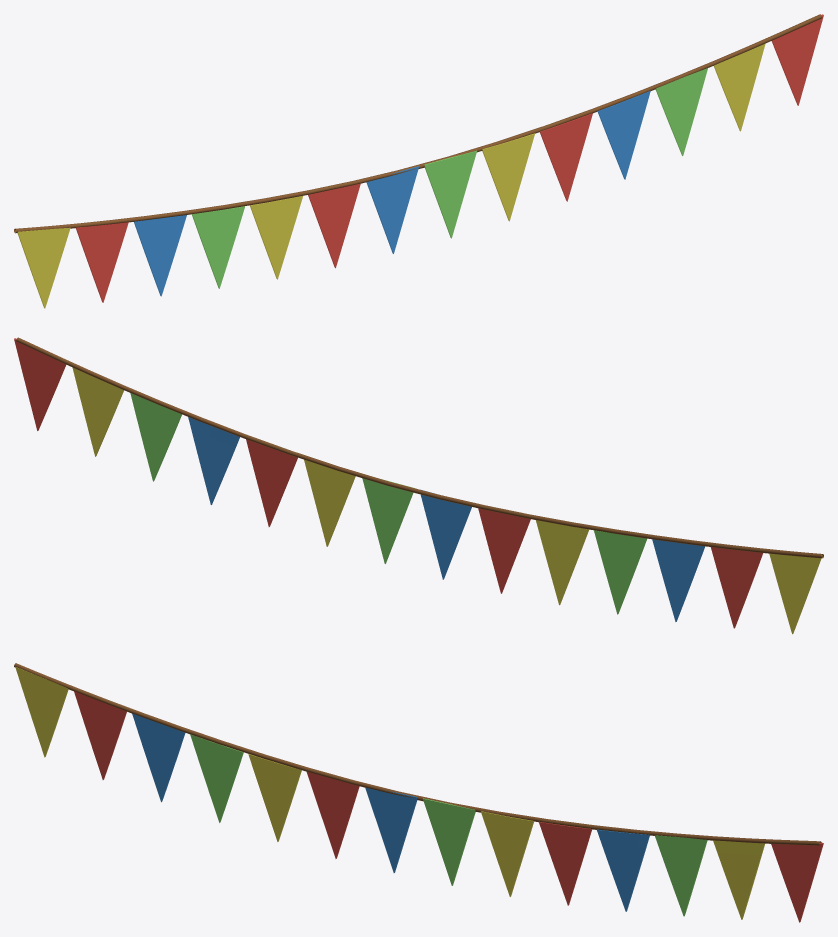
The model's file is hanging_flags.fbx.
The picture shows the model from 3 angles, top to bottom: view 1: azimuth 30°, elevation 25°; view 2: azimuth 150°, elevation 25°; view 3: azimuth 330°, elevation 25°; orthographic projection.
Visible parts, largest first — view 1: BannerFlags, String; view 2: BannerFlags, String; view 3: BannerFlags, String.
Part boxes in pixels (left/top/right/bottom): BannerFlags: left=17, top=14, right=823, bottom=308; String: left=14, top=14, right=822, bottom=233; BannerFlags: left=14, top=338, right=822, bottom=634; String: left=16, top=337, right=823, bottom=558; BannerFlags: left=15, top=667, right=823, bottom=922; String: left=14, top=663, right=821, bottom=845.
Bounding box in the file's own units: 2061 × 333 × 14.99.
